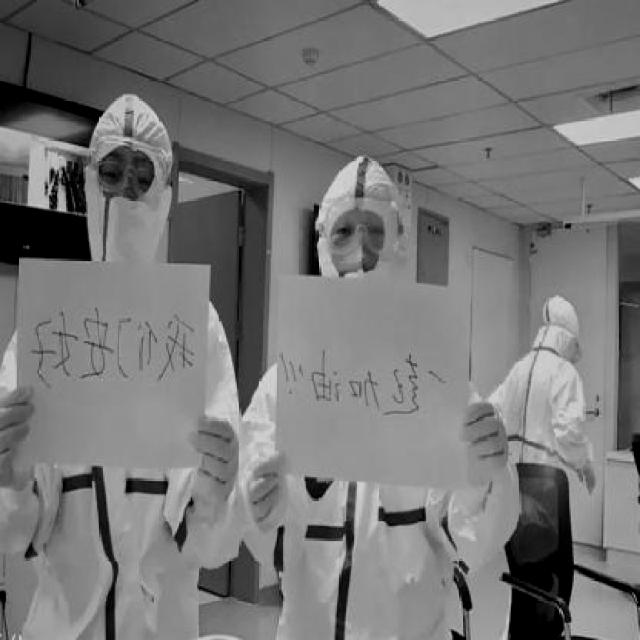face_nomask: (326, 206, 391, 291)
glasses: (89, 135, 173, 217)
hand_glove: (188, 414, 242, 509), (0, 380, 33, 494), (460, 398, 509, 474), (248, 451, 286, 535), (578, 457, 600, 497)
head_nohelmet: (82, 93, 182, 164), (315, 160, 407, 220), (531, 292, 578, 339)
person: (229, 146, 522, 640), (0, 101, 249, 640)
